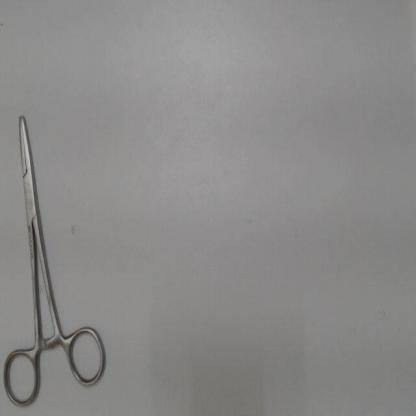Mayo Needle Holder: (0, 100, 114, 410)
